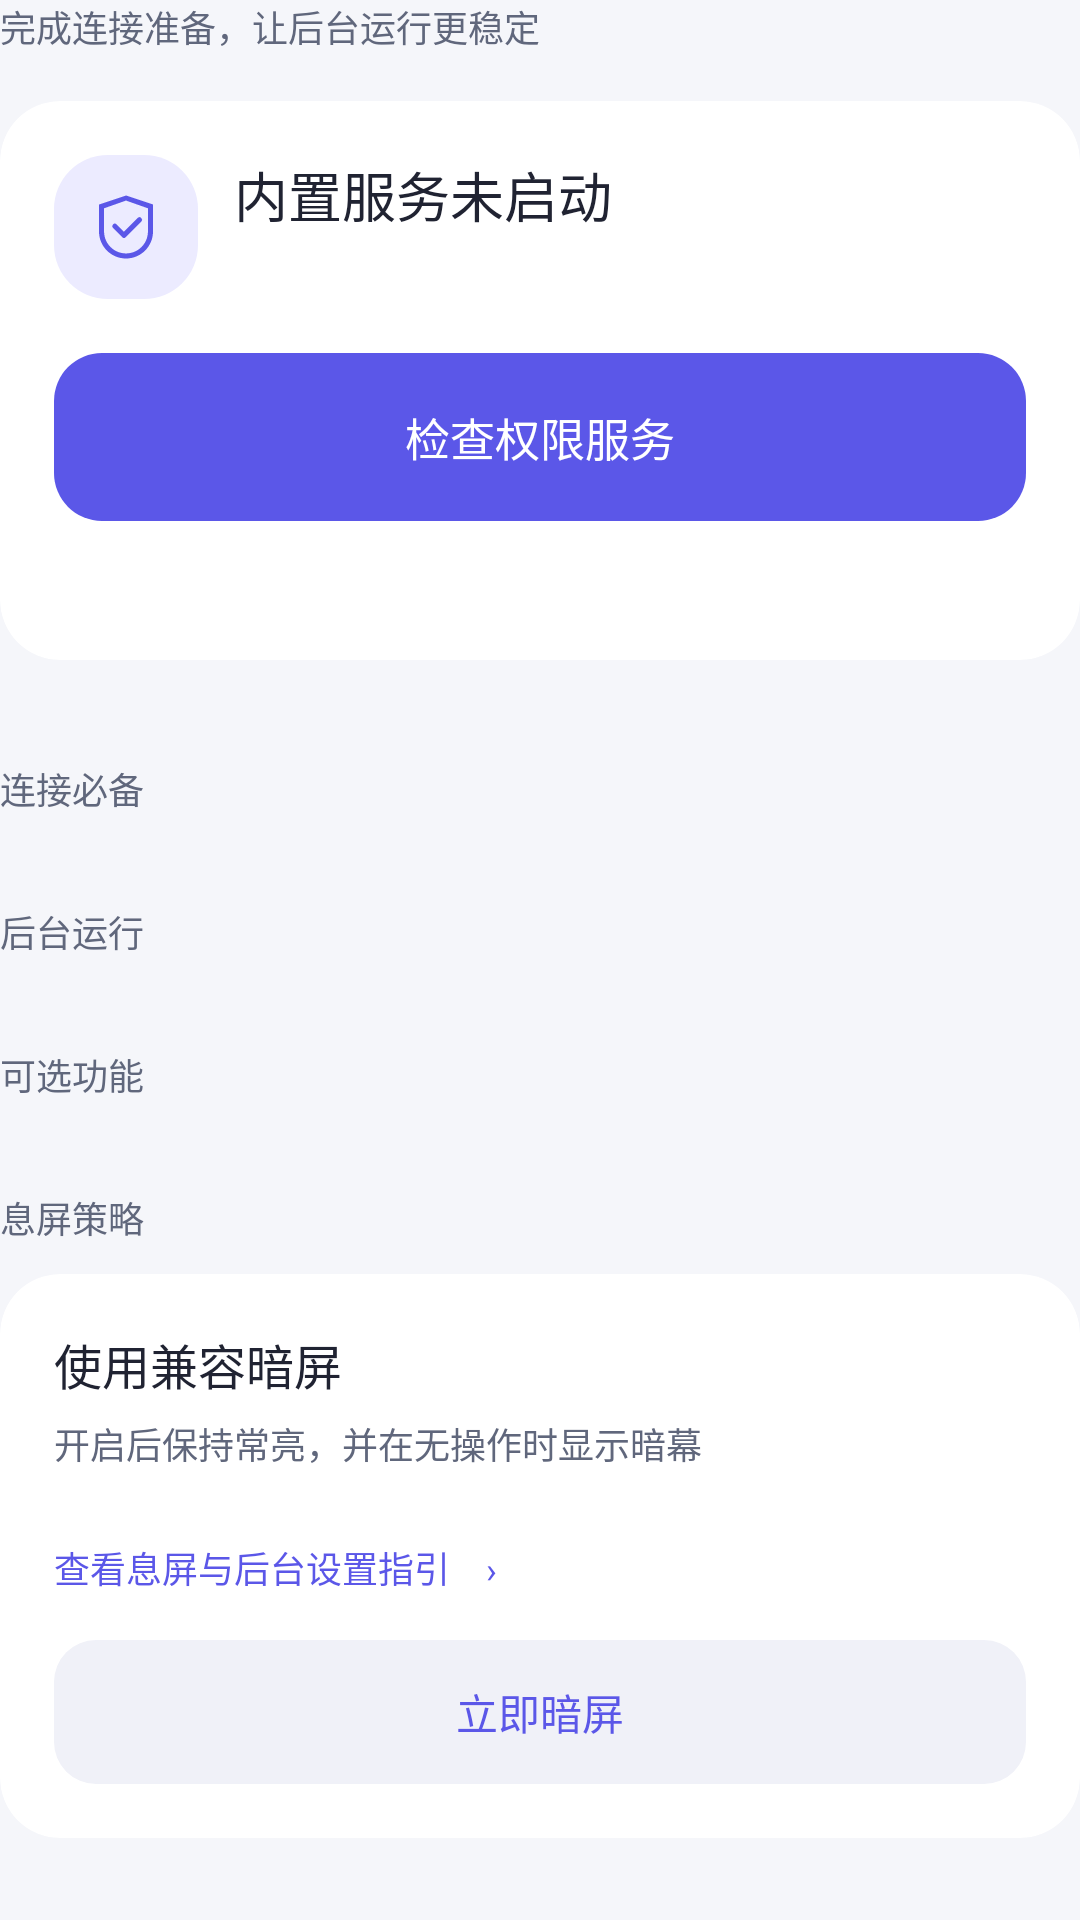

Icons on this 1080×1920 Android screen, each with its box as (x1, y1, x2, y2):
shizuku shield: (54, 155, 198, 299)
